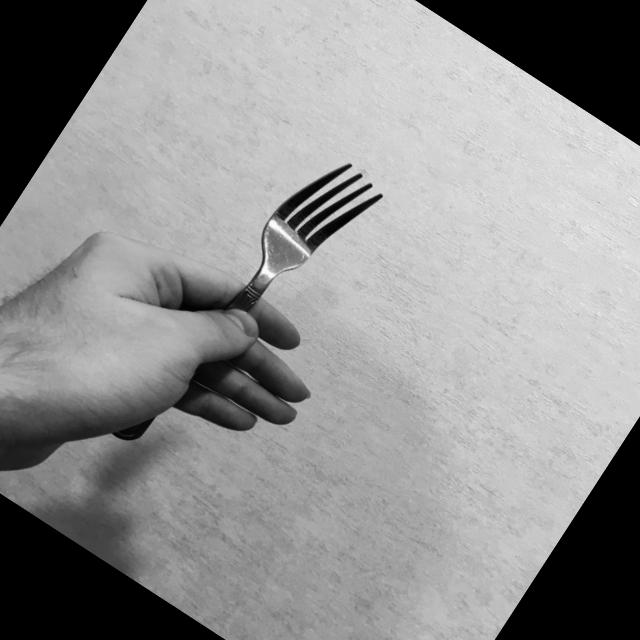fork: (109, 132, 392, 491)
